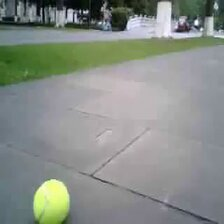tennis: (33, 178, 70, 224)
